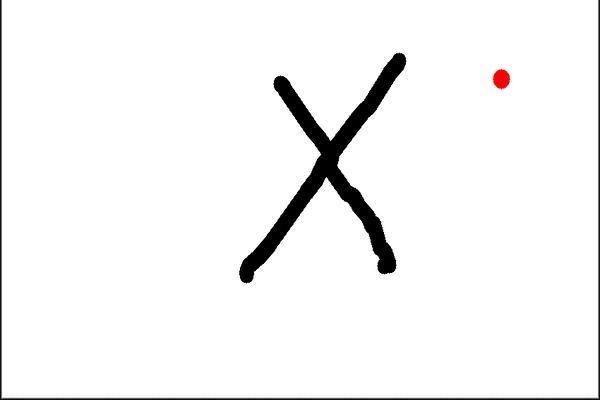Z: (220, 40, 413, 324)
